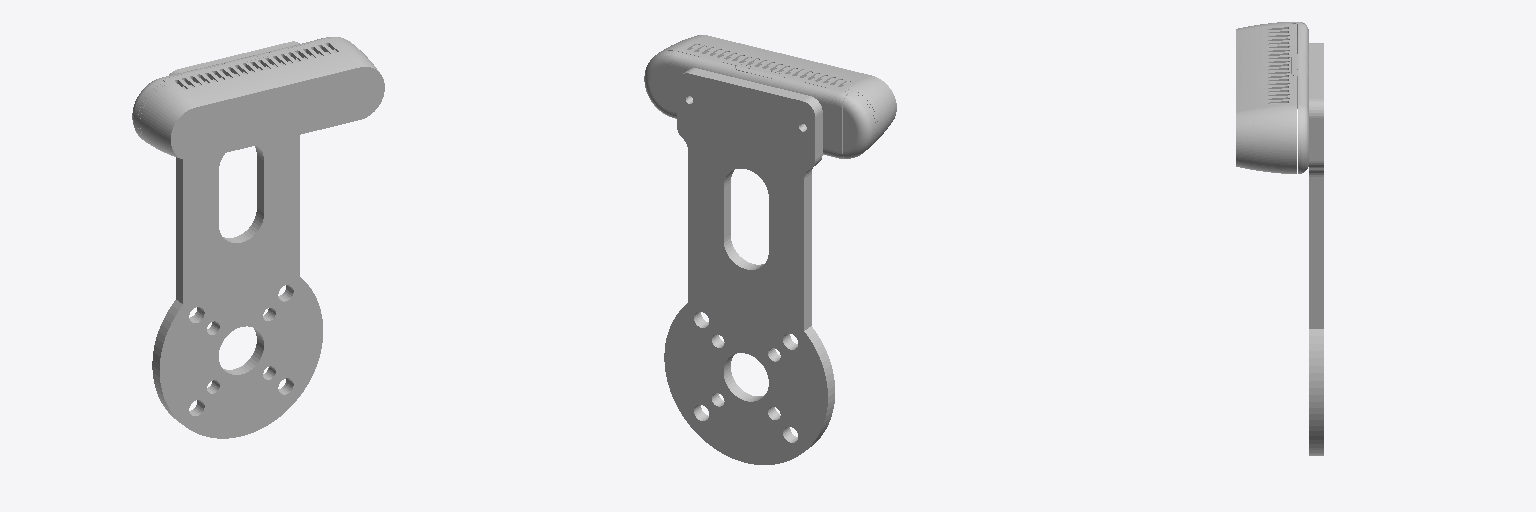
Rendered from Assembly_Circular.obj.
The picture shows the model from 3 angles: view 1: azimuth 30°, elevation 25°; view 2: azimuth 150°, elevation 25°; view 3: azimuth 270°, elevation 25°; orthographic projection.
Parts seen in each view (by area): view 1: Solid1, Solid11, Solid12; view 2: Solid1, Solid11, Solid1:1; view 3: Solid11, Solid1.
Part boxes in pixels (x1,y1,x2,y2): Solid1: (152, 41, 322, 438); Solid11: (138, 37, 384, 160); Solid12: (175, 71, 380, 156); Solid1: (664, 68, 834, 464); Solid11: (644, 35, 896, 158); Solid1:1: (843, 92, 875, 158); Solid11: (1236, 22, 1308, 173); Solid1: (1309, 43, 1323, 455).
Size of the model in its own units: 90 by 145 by 30.